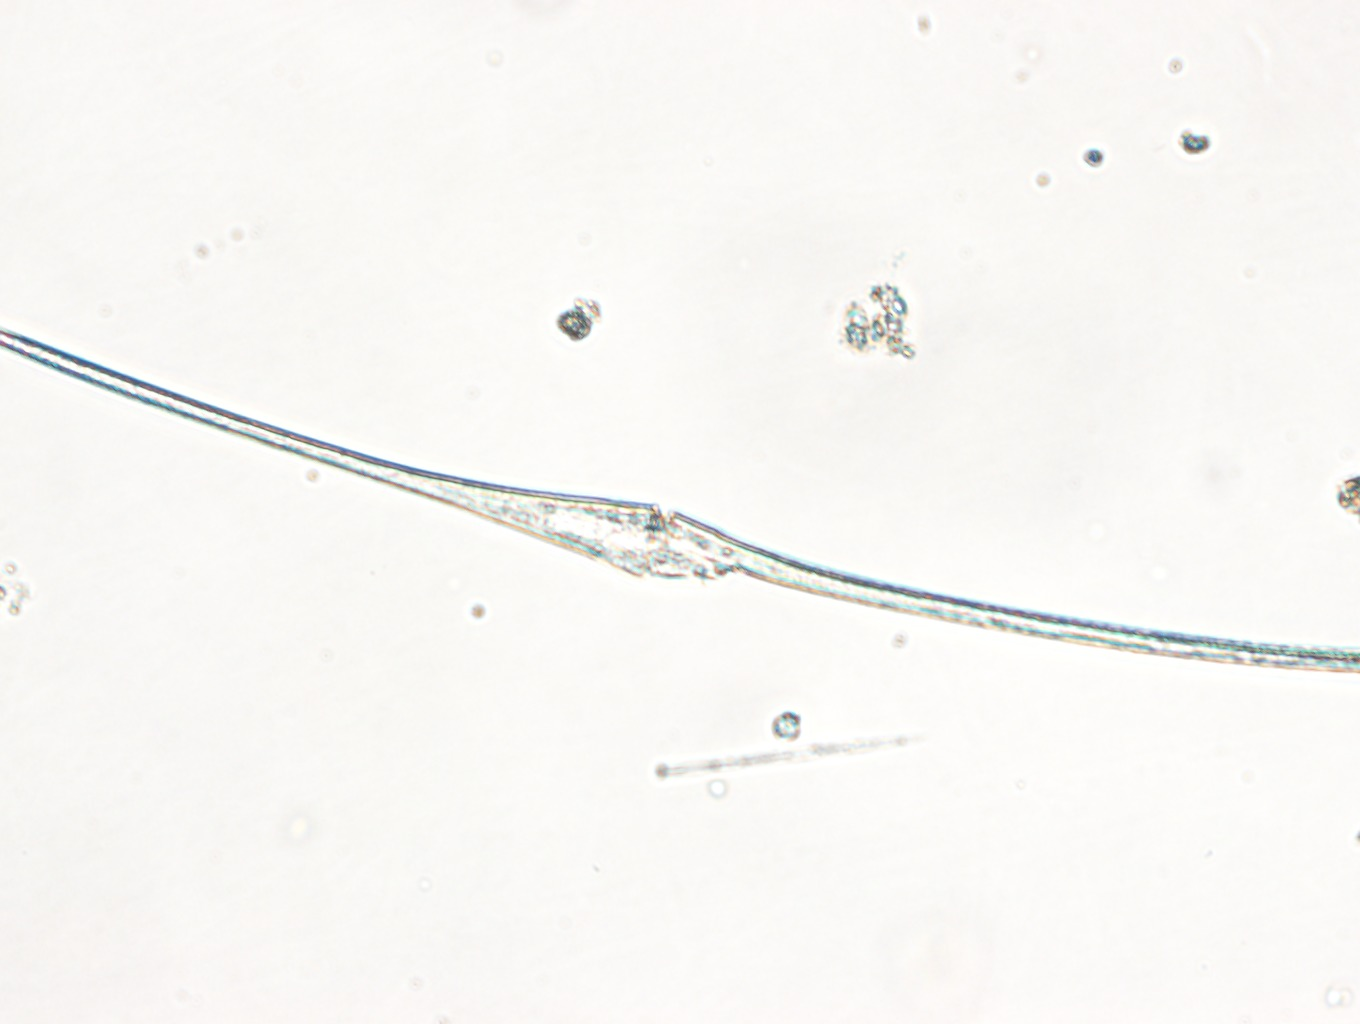ceratium fusus: (1, 313, 1359, 691)
